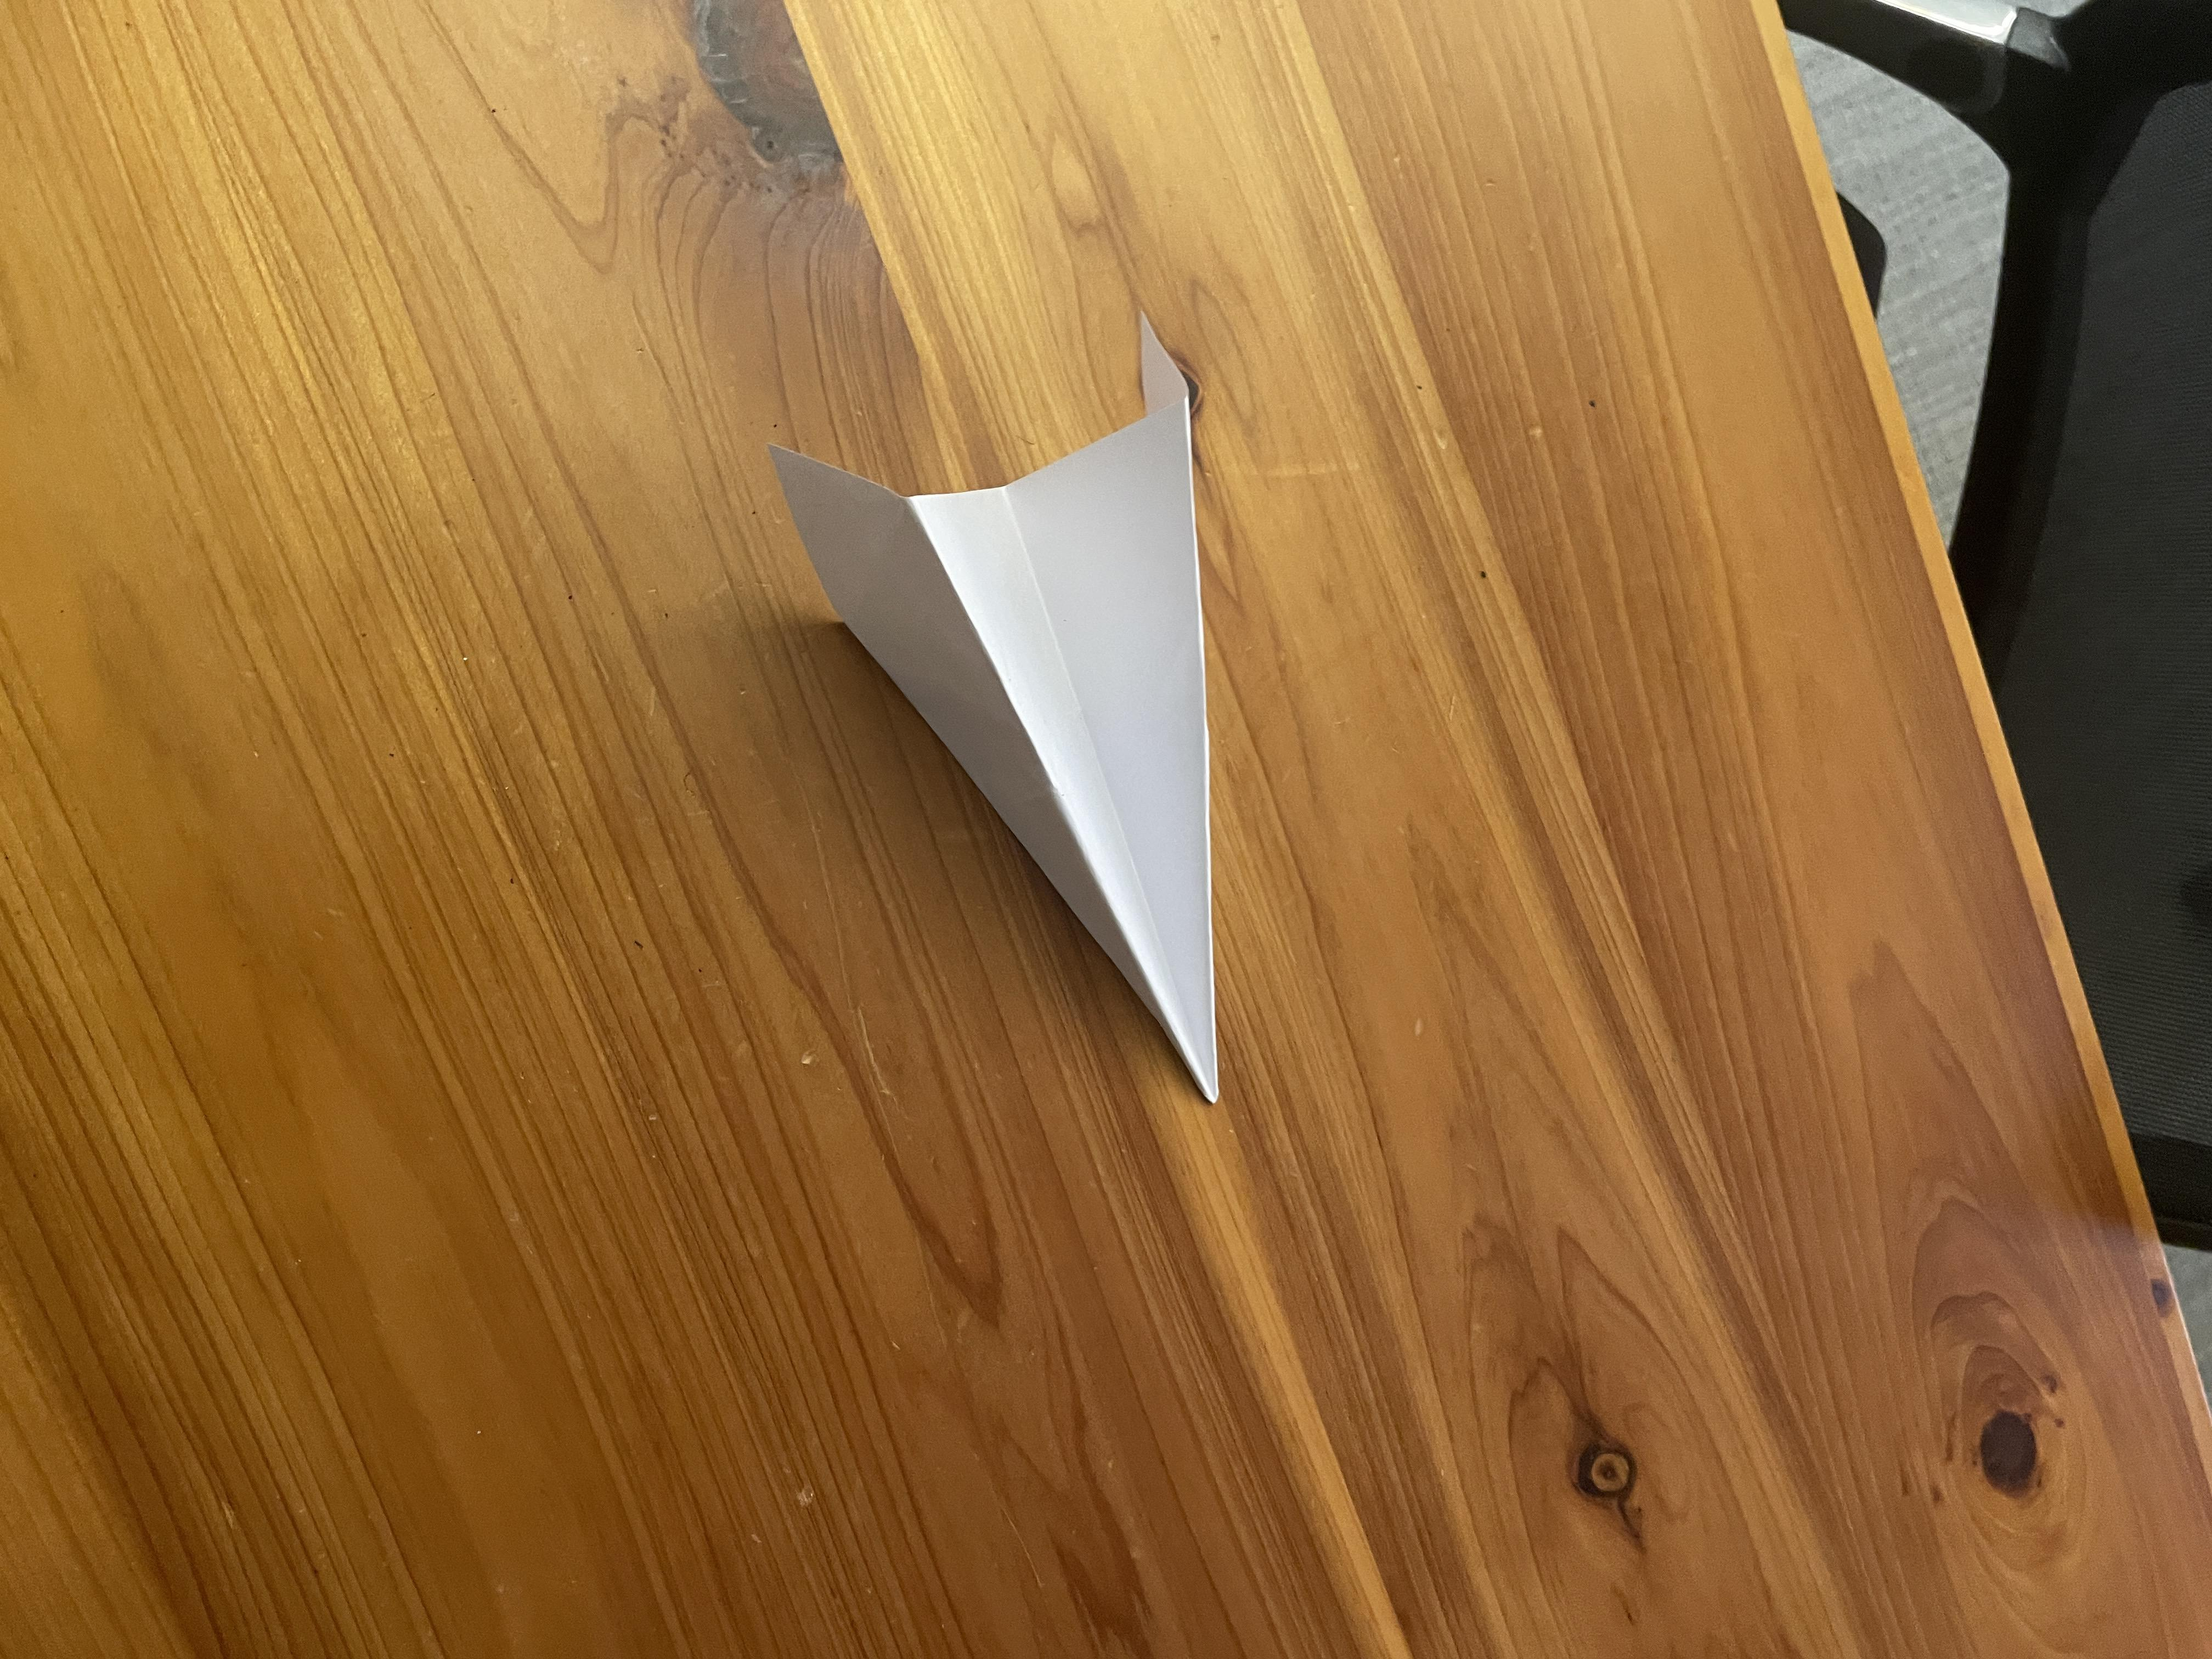shape_3: (740, 275, 1329, 1145)
